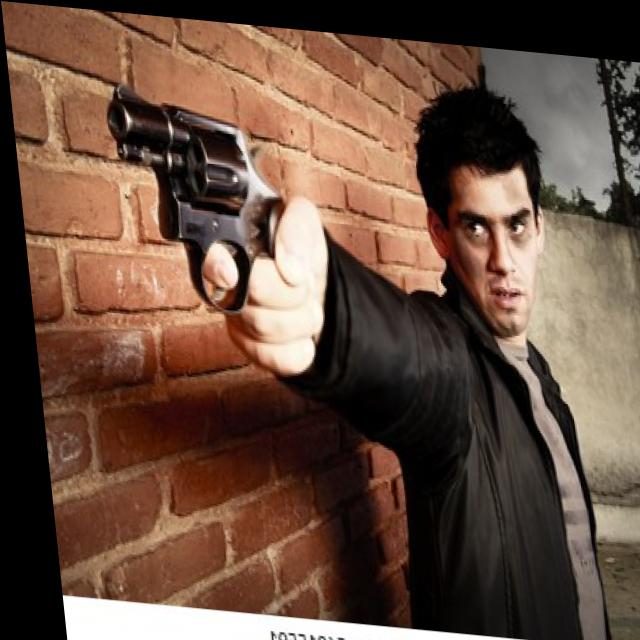handgun: (96, 78, 302, 325)
